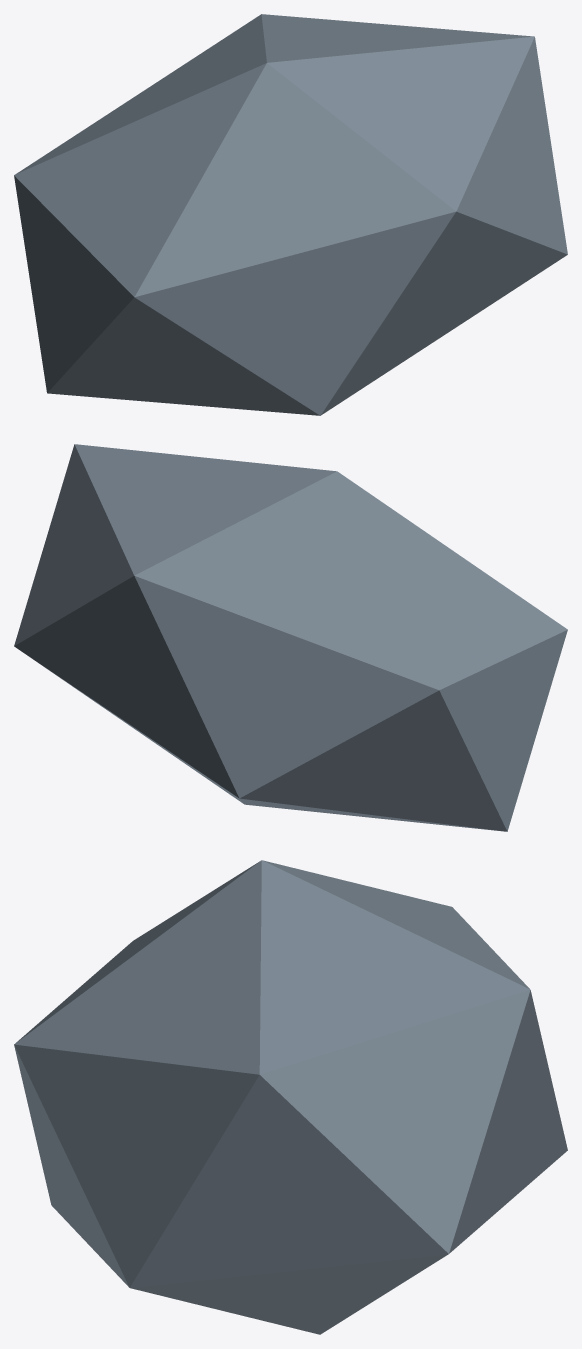
The model's file is INT_C_WallRubble_01_Stone_1.glb.
The picture shows the model from 3 angles, top to bottom: view 1: azimuth 30°, elevation 25°; view 2: azimuth 150°, elevation 25°; view 3: azimuth 270°, elevation 25°; orthographic projection. The views are drawn at different scales.
Parts seen in each view (by area): view 1: INT_C_WallRubble_01_Stone_1; view 2: INT_C_WallRubble_01_Stone_1; view 3: INT_C_WallRubble_01_Stone_1.
Part boxes in pixels (left/top/right/bottom): INT_C_WallRubble_01_Stone_1: left=14, top=14, right=567, bottom=415; INT_C_WallRubble_01_Stone_1: left=14, top=444, right=567, bottom=831; INT_C_WallRubble_01_Stone_1: left=14, top=860, right=567, bottom=1334.
Bounding box in the file's own units: 0.5115 × 0.3569 × 0.4161.
